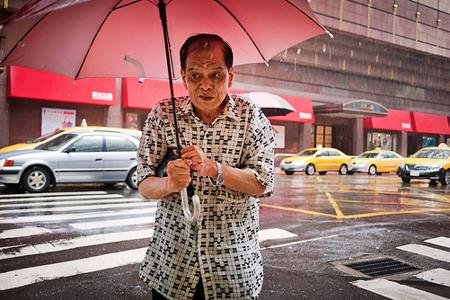person: (137, 34, 275, 300)
